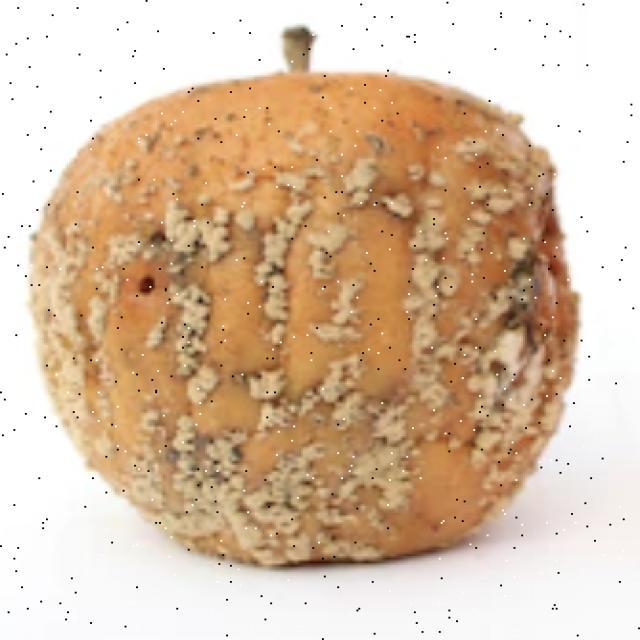Rotten: (26, 65, 582, 572)
